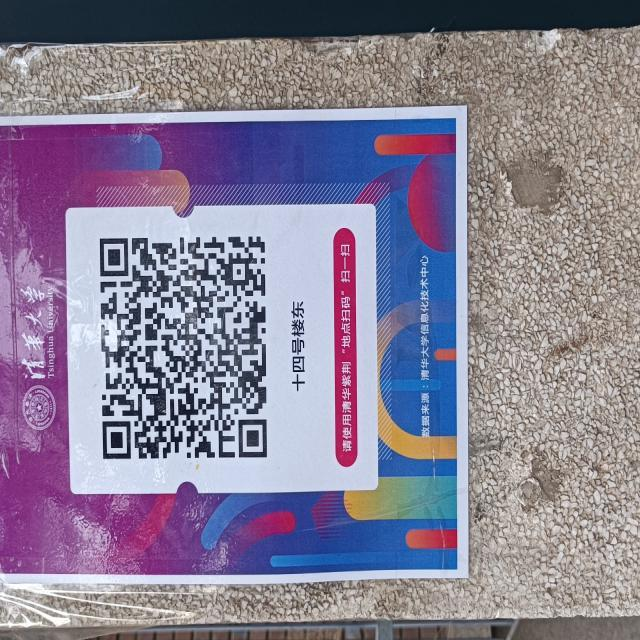qr_code: (99, 235, 268, 459)
